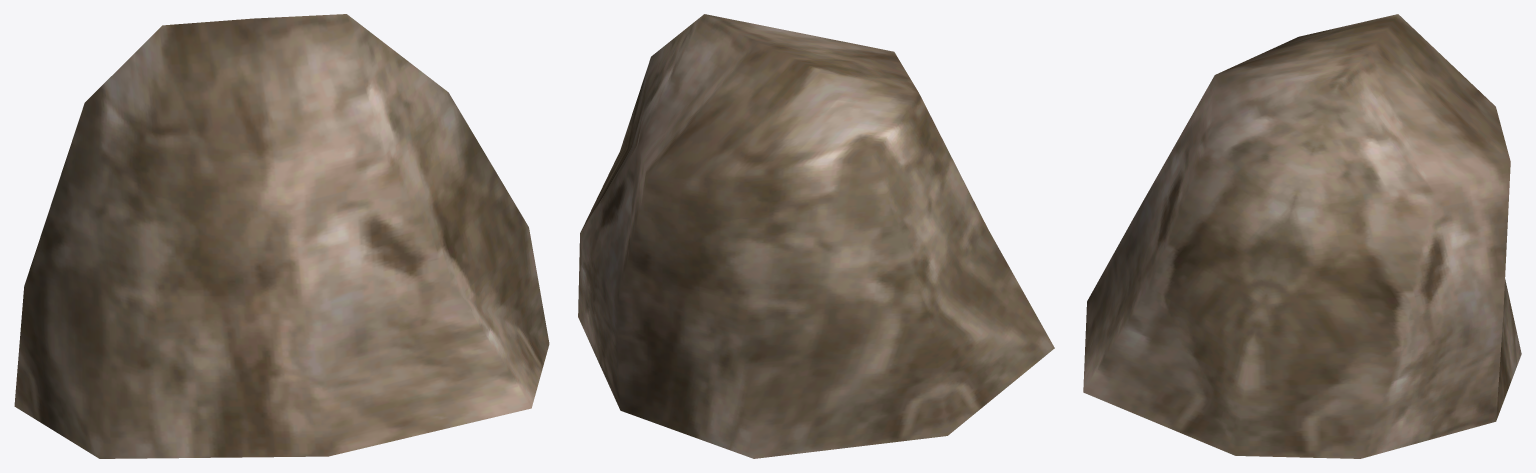
The model's file is OVERHILL_A_01_ROCK35.fbx.
3 renders of one model, left to right at view 1: azimuth 30°, elevation 25°; view 2: azimuth 150°, elevation 25°; view 3: azimuth 270°, elevation 25°, orthographic. The views are drawn at different scales.
Parts seen in each view (by area): view 1: OVERHILL_A_01_ROCK35; view 2: OVERHILL_A_01_ROCK35; view 3: OVERHILL_A_01_ROCK35.
Boxes of the visible parts, box(x1,y1,x2,y2) form: OVERHILL_A_01_ROCK35: box(14, 14, 549, 458); OVERHILL_A_01_ROCK35: box(578, 14, 1054, 458); OVERHILL_A_01_ROCK35: box(1083, 14, 1521, 458).
Size of the model in its own units: 35507 by 27056 by 31645.
Materials: 1 (1 with a texture image).
